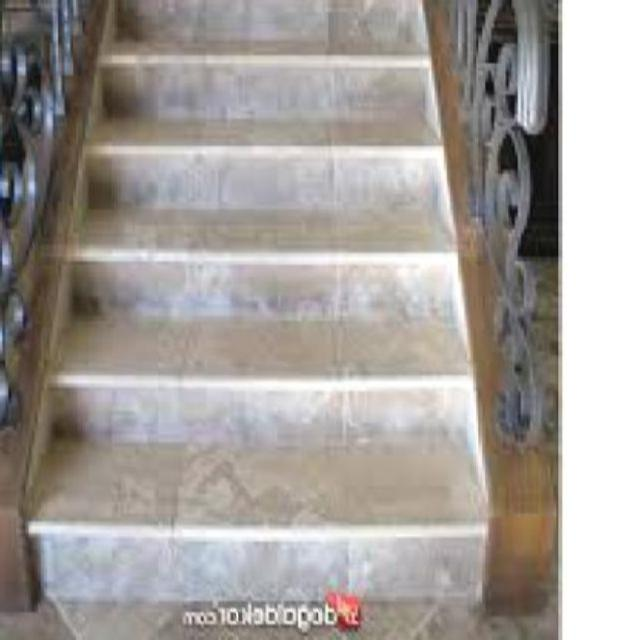stair: (12, 0, 540, 589)
